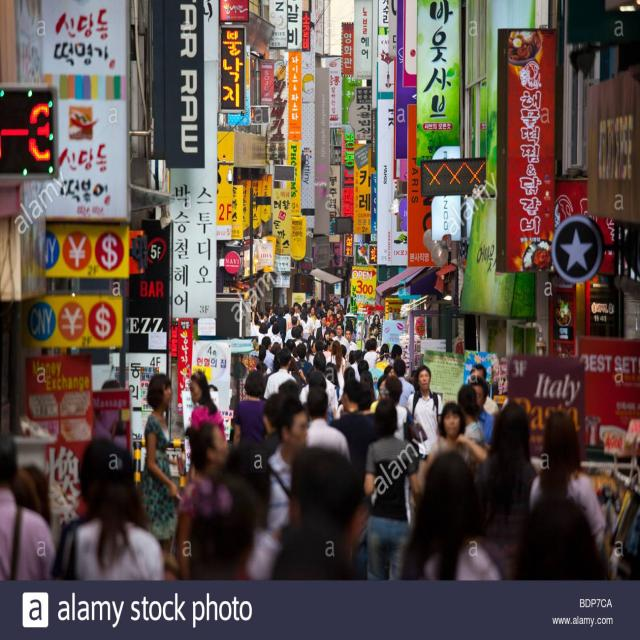body: (382, 373, 505, 640), (392, 449, 508, 581), (263, 444, 370, 580), (73, 440, 166, 582), (527, 409, 607, 556), (472, 400, 538, 575), (363, 398, 421, 582), (176, 422, 234, 580), (510, 490, 607, 580), (0, 430, 57, 582), (140, 373, 182, 554), (340, 413, 396, 546), (18, 438, 98, 524), (256, 456, 340, 537), (263, 400, 311, 539), (263, 403, 311, 540), (298, 339, 340, 467), (423, 402, 487, 483), (329, 378, 377, 482), (406, 364, 445, 461), (304, 385, 352, 463), (456, 361, 498, 446), (256, 379, 300, 456), (298, 351, 340, 421), (232, 369, 267, 451), (358, 313, 386, 413), (189, 369, 227, 442), (40, 525, 77, 582), (263, 346, 300, 402), (93, 381, 124, 436), (283, 298, 346, 320), (392, 357, 416, 410), (326, 340, 346, 402), (296, 342, 314, 388), (251, 302, 277, 332), (331, 321, 350, 359), (341, 343, 358, 381), (386, 342, 403, 378), (260, 335, 276, 373), (288, 358, 307, 386), (283, 315, 299, 348), (299, 307, 314, 341), (274, 306, 286, 348), (269, 322, 284, 350), (286, 324, 306, 345), (268, 340, 281, 371), (316, 314, 332, 337), (266, 314, 282, 337), (304, 338, 317, 366), (322, 337, 334, 367), (344, 328, 359, 351), (256, 322, 269, 346), (286, 307, 299, 330), (325, 306, 338, 327), (312, 312, 322, 339), (327, 314, 338, 337), (309, 305, 318, 325), (255, 361, 268, 374), (322, 328, 337, 339), (335, 309, 345, 324), (286, 345, 298, 357), (208, 384, 219, 392)
